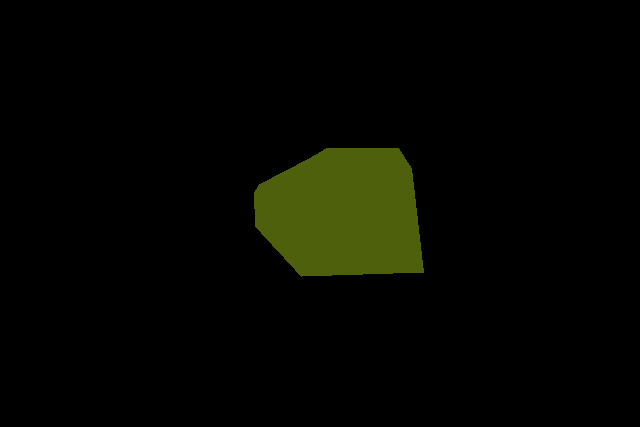Train: (254, 148, 423, 276)
